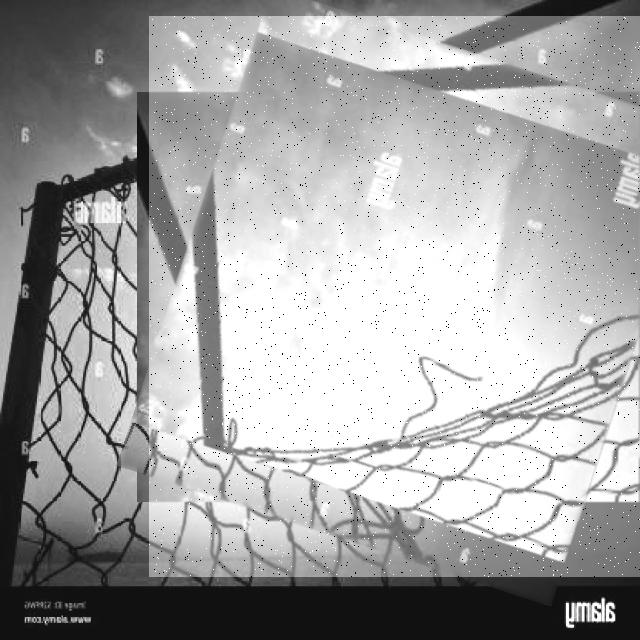anomaly-fence: (149, 16, 640, 577)
